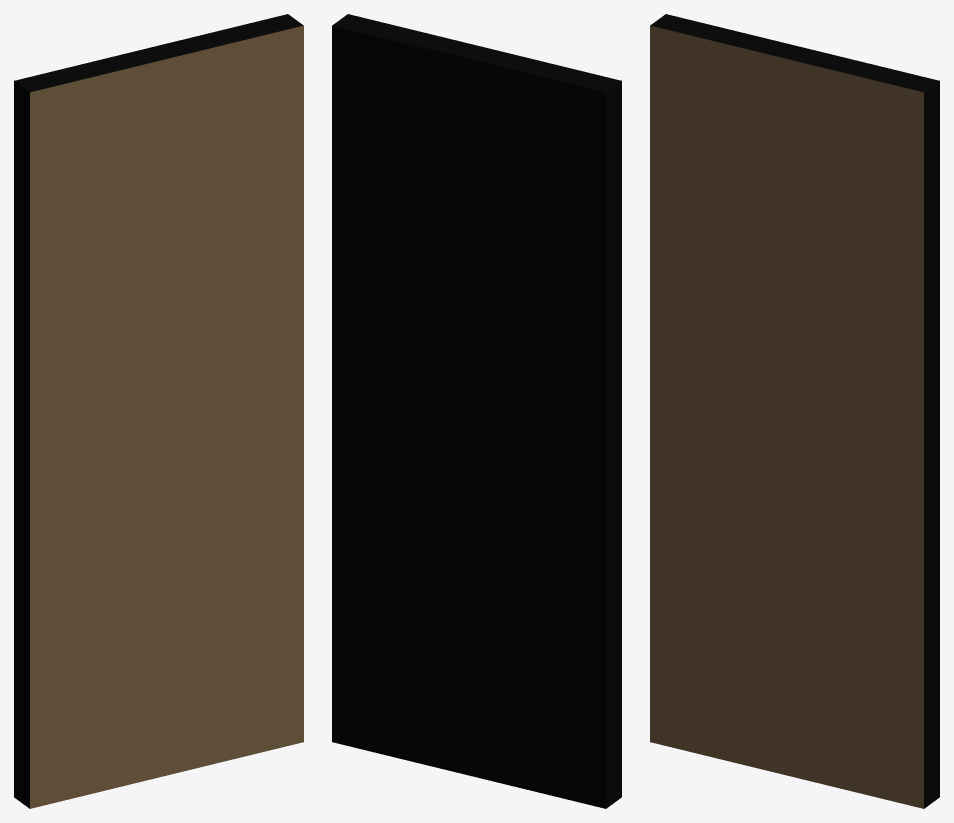
File: M_Wall_Tall.fbx
3 views of the same model, side by side, from view 1: azimuth 30°, elevation 25°; view 2: azimuth 150°, elevation 25°; view 3: azimuth 330°, elevation 25° (orthographic).
Visible parts, largest first — view 1: M_Wall_Tall; view 2: M_Wall_Tall; view 3: M_Wall_Tall.
Boxes of the visible parts, x1,y1,x2,y2 form: M_Wall_Tall: [14, 14, 303, 808]; M_Wall_Tall: [332, 14, 621, 808]; M_Wall_Tall: [650, 14, 939, 808].
Size of the model in its own units: 200 by 500 by 20.
